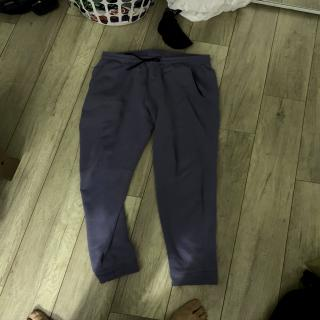Blue Sweatpants: (74, 44, 228, 288)
